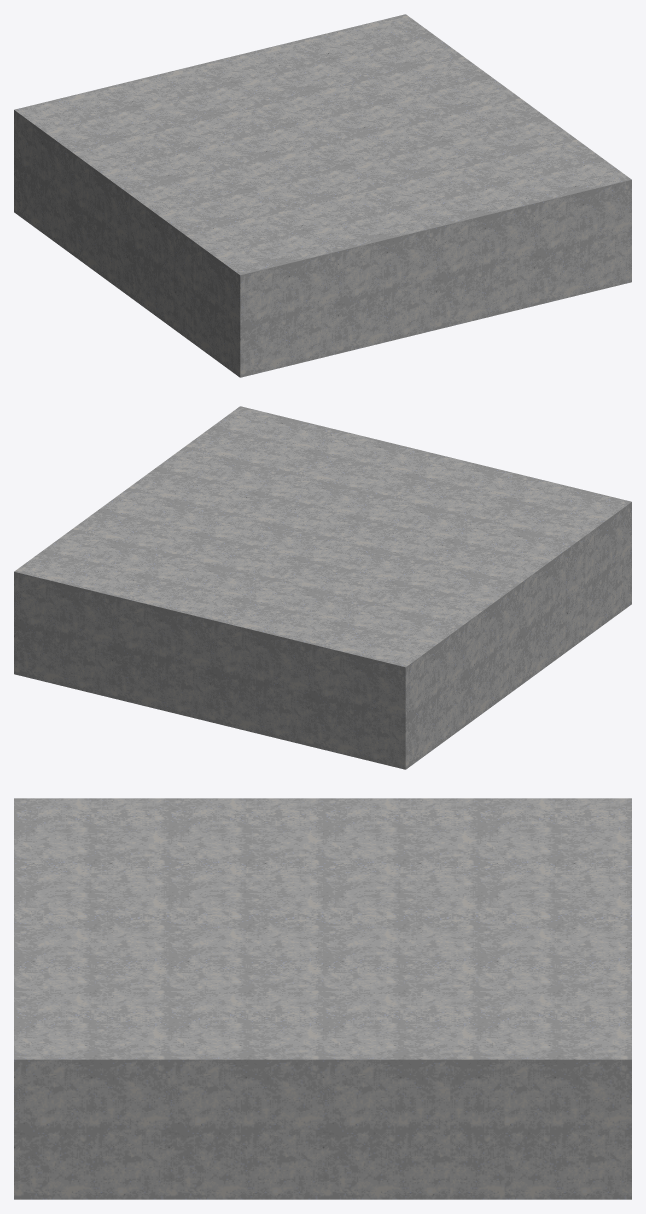
Rendered from parkingRoom_01.fbx.
The picture shows the model from 3 angles, top to bottom: view 1: azimuth 30°, elevation 25°; view 2: azimuth 150°, elevation 25°; view 3: azimuth 270°, elevation 25°; orthographic projection. The views are drawn at different scales.
Parts seen in each view (by area): view 1: ground2, wall1, wall3, hasira3; view 2: ground2, wall2, wall3, hasira3; view 3: ground2, wall4, hasira4.
Boxes of the visible parts, box(x1,y1,x2,y2) form: ground2: box(14, 14, 631, 275); wall1: box(240, 180, 631, 377); wall3: box(14, 110, 240, 377); hasira3: box(173, 227, 193, 343); ground2: box(14, 406, 631, 667); wall2: box(14, 572, 405, 769); wall3: box(405, 502, 631, 769); hasira3: box(565, 536, 585, 652); ground2: box(14, 798, 631, 1059); wall4: box(14, 1059, 631, 1199); hasira4: box(450, 1059, 504, 1199).
Bounding box in the file's own units: 16 × 4 × 16.
